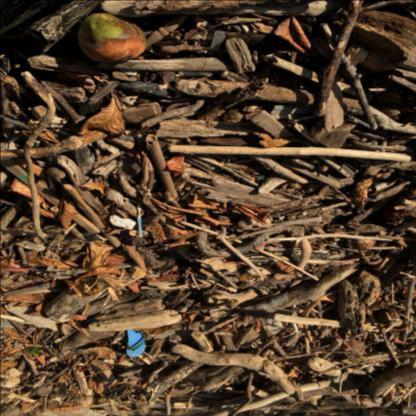Other plastic: (125, 329, 145, 357), (137, 203, 142, 236)
Styrofoam piece: (110, 214, 136, 229)
